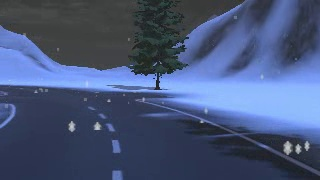Lane: (0, 83, 319, 179)
